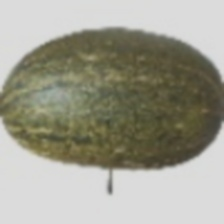honeydew: (13, 11, 167, 183)
